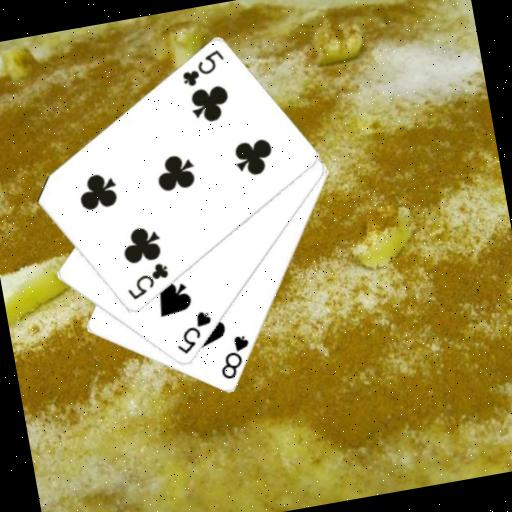5C: (175, 45, 229, 90), (120, 258, 173, 303)
5S: (168, 307, 218, 357)
8S: (212, 331, 256, 383)
